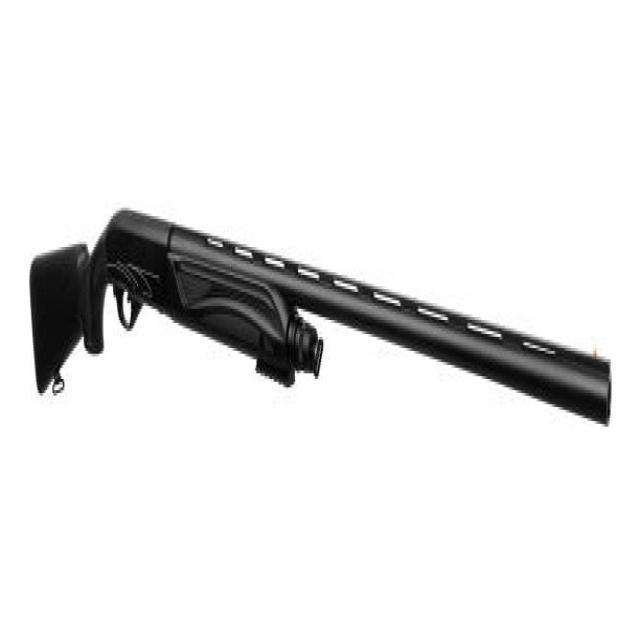rifle: (21, 196, 619, 445)
